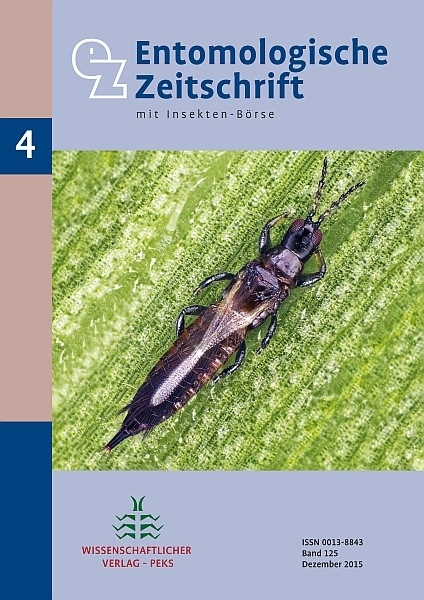Phlaeothripidae: (97, 158, 364, 458)
